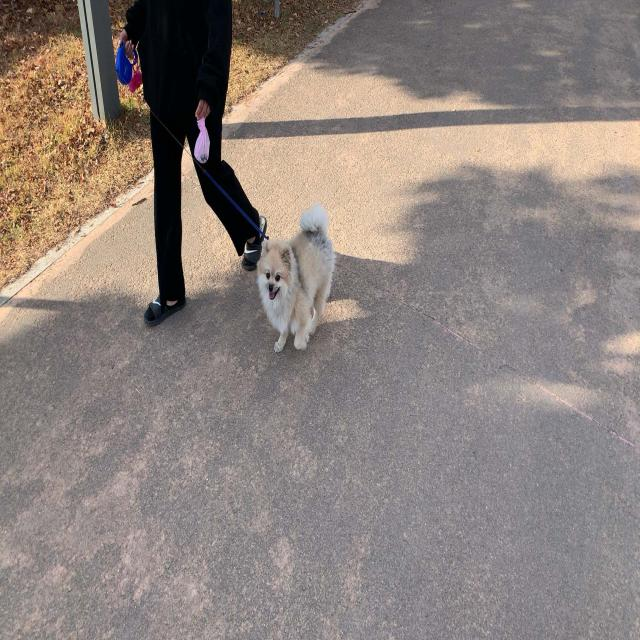Leashed_Dog: (197, 163, 337, 355)
